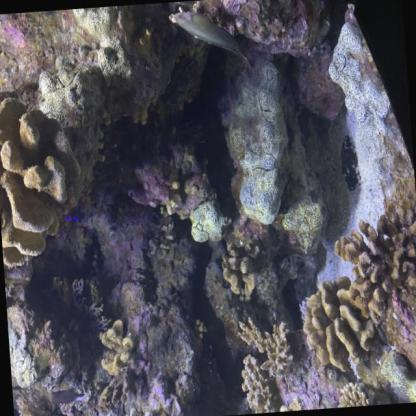fish: (170, 4, 255, 76), (50, 388, 85, 406)
